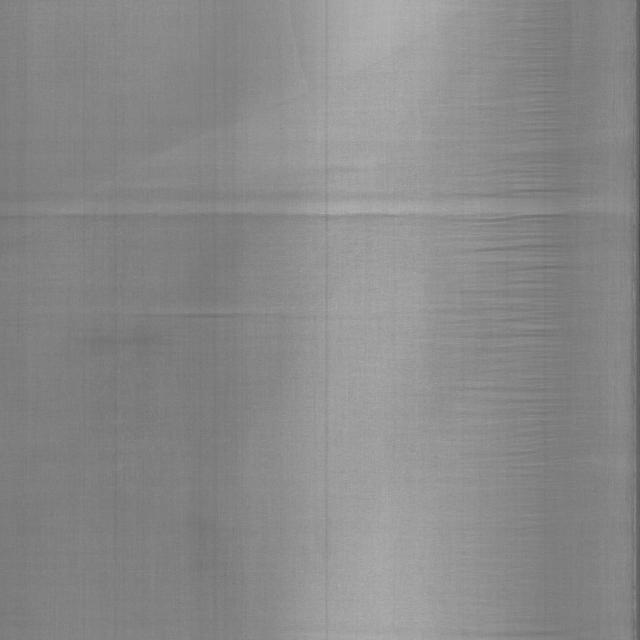punching_hole: (133, 64, 579, 413)
